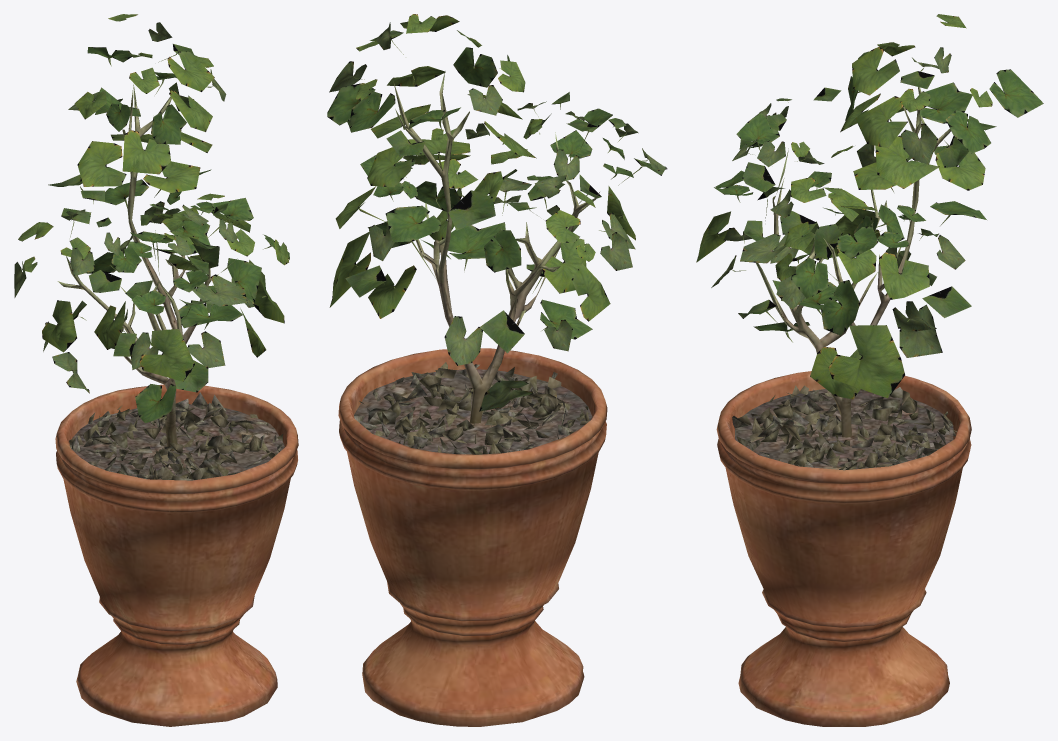
Rendered from plant_ficus.glb.
3 views of the same model, side by side, from view 1: azimuth 30°, elevation 25°; view 2: azimuth 150°, elevation 25°; view 3: azimuth 270°, elevation 25° (orthographic). The views are drawn at different scales.
Visible parts, largest first — view 1: potted_plant_01_stem, potted_plant_01_leaves; view 2: potted_plant_01_stem, potted_plant_01_leaves; view 3: potted_plant_01_stem, potted_plant_01_leaves.
Boxes of the visible parts, x1=… form: potted_plant_01_stem: x1=55, y1=84, x2=298, y2=726; potted_plant_01_leaves: x1=14, y1=14, x2=289, y2=423; potted_plant_01_stem: x1=338, y1=72, x2=607, y2=726; potted_plant_01_leaves: x1=327, y1=14, x2=667, y2=411; potted_plant_01_stem: x1=716, y1=87, x2=971, y2=726; potted_plant_01_leaves: x1=696, y1=14, x2=1043, y2=399.
Bounding box in the file's own units: 0.5775 × 1.33 × 0.6336.
2 materials, 2 textured.
